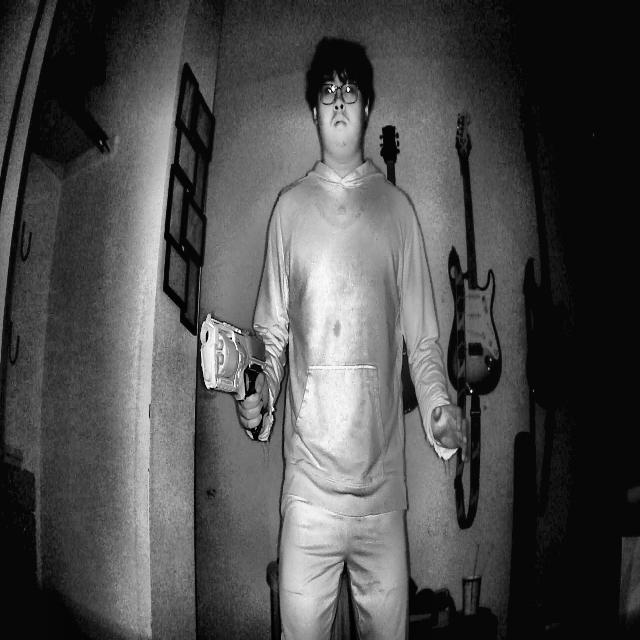Nerf_Blaster: (193, 300, 278, 450)
